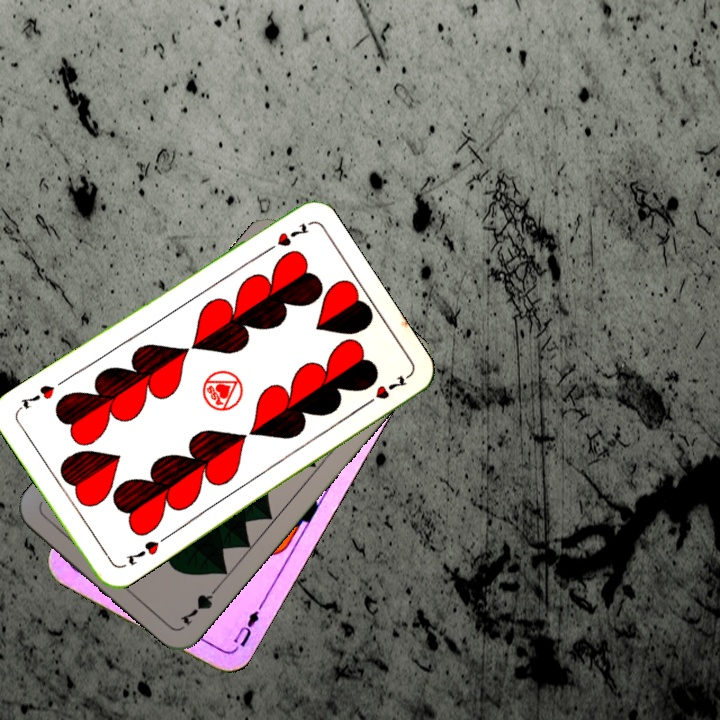EU: (228, 601, 265, 655)
G7: (175, 579, 223, 628)
H7: (259, 219, 312, 257), (122, 536, 162, 568)
